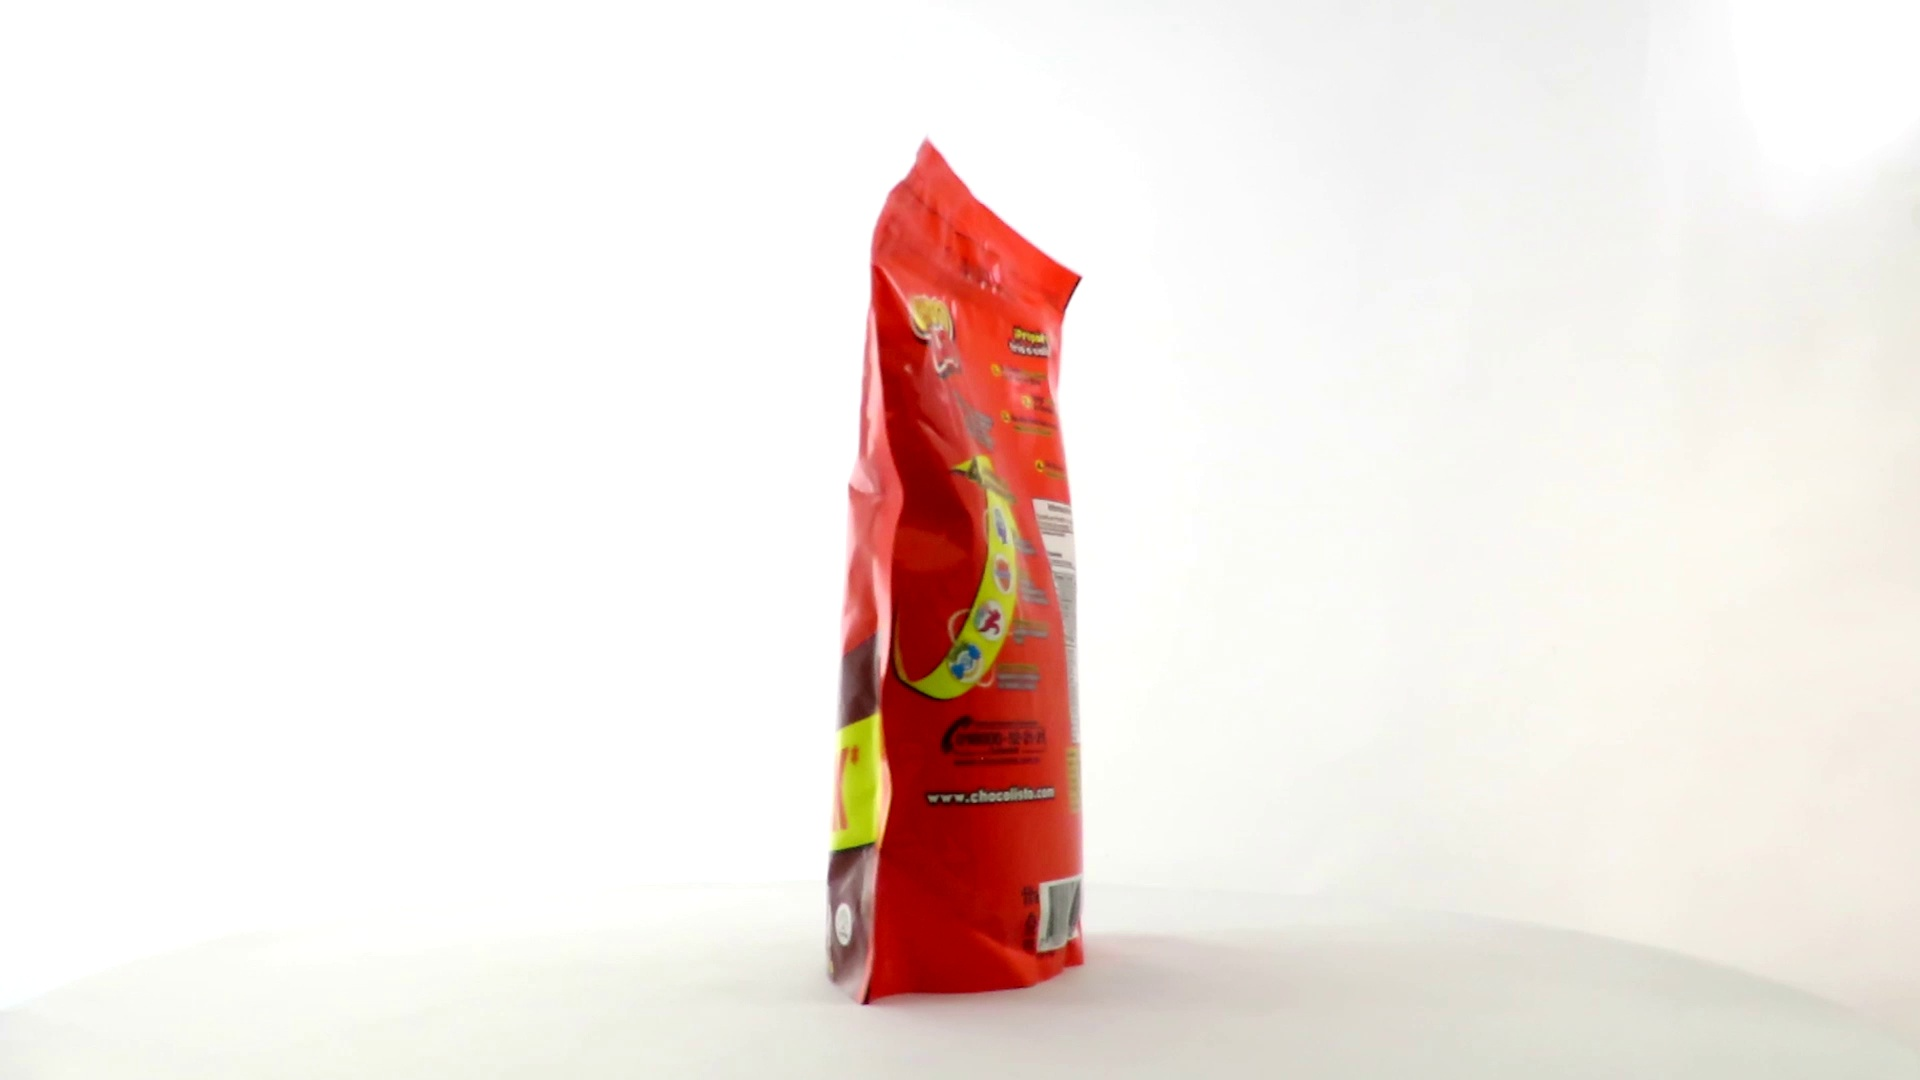COL0170103DYP36000: (822, 131, 1091, 1014)
